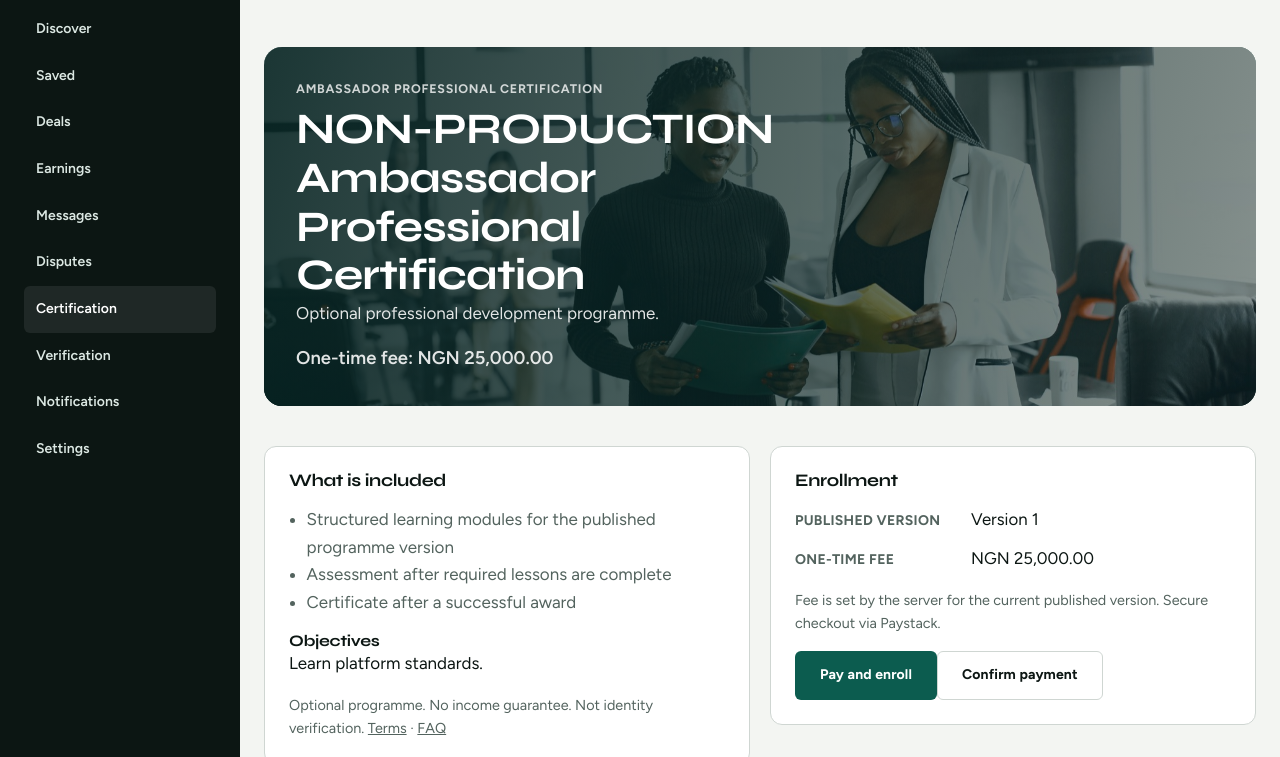
Scenario: Ambassador certification frontend › maps payment configuration failures to participant-safe copy
(page scrolled)
What coordinates should you click on to do the following:
click the button "Pay and enroll"
I would click on:
 (866, 676)
Its box is [795, 651, 937, 700].
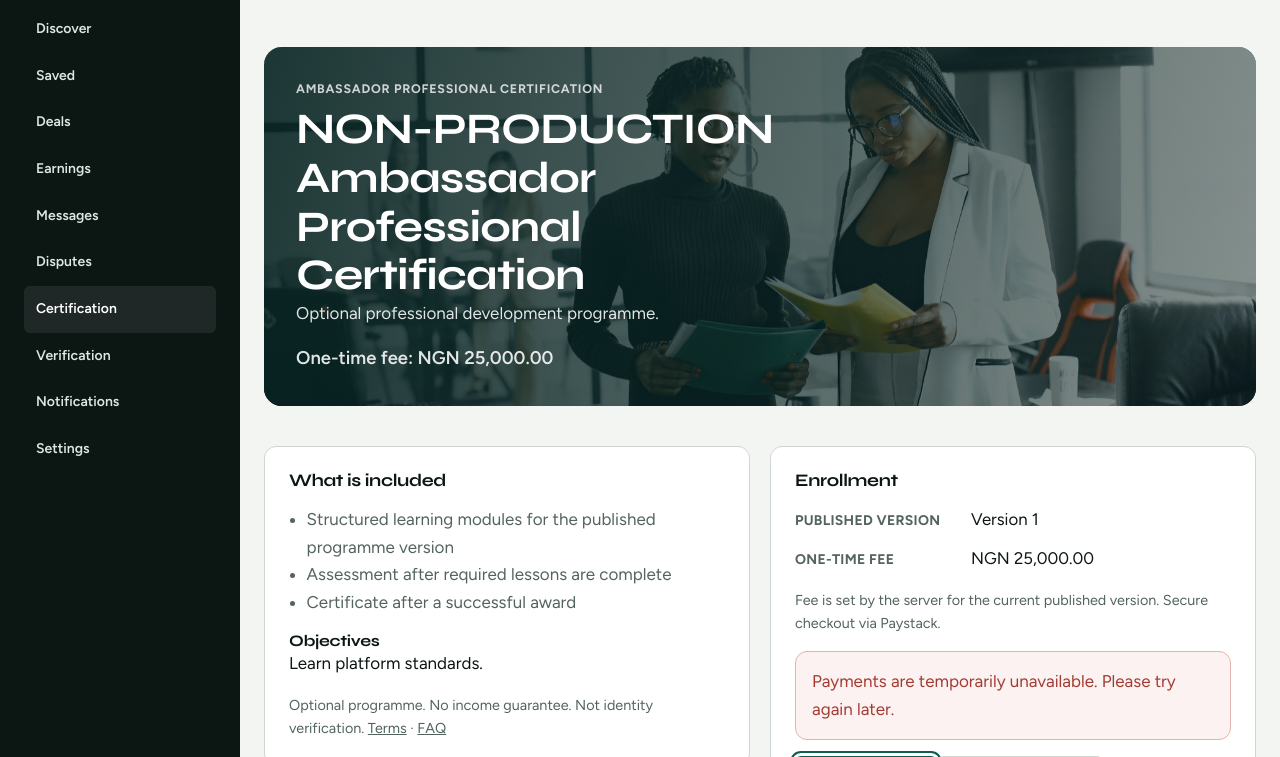
Now the text "Payments are temporarily unavailable. Please try again later." is shown, box [795, 651, 1231, 740]
